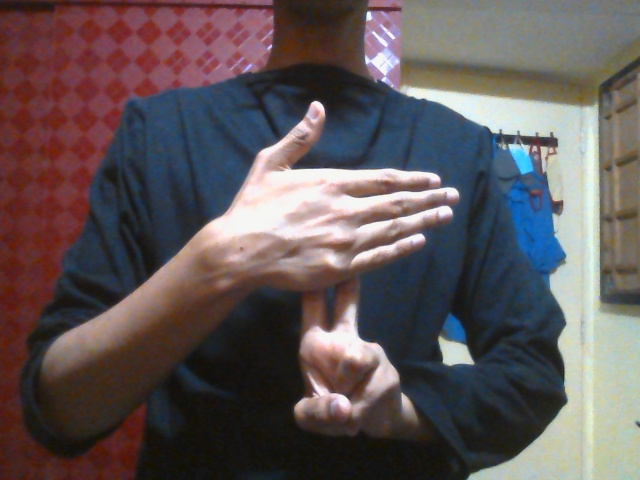N: (222, 98, 460, 444)
